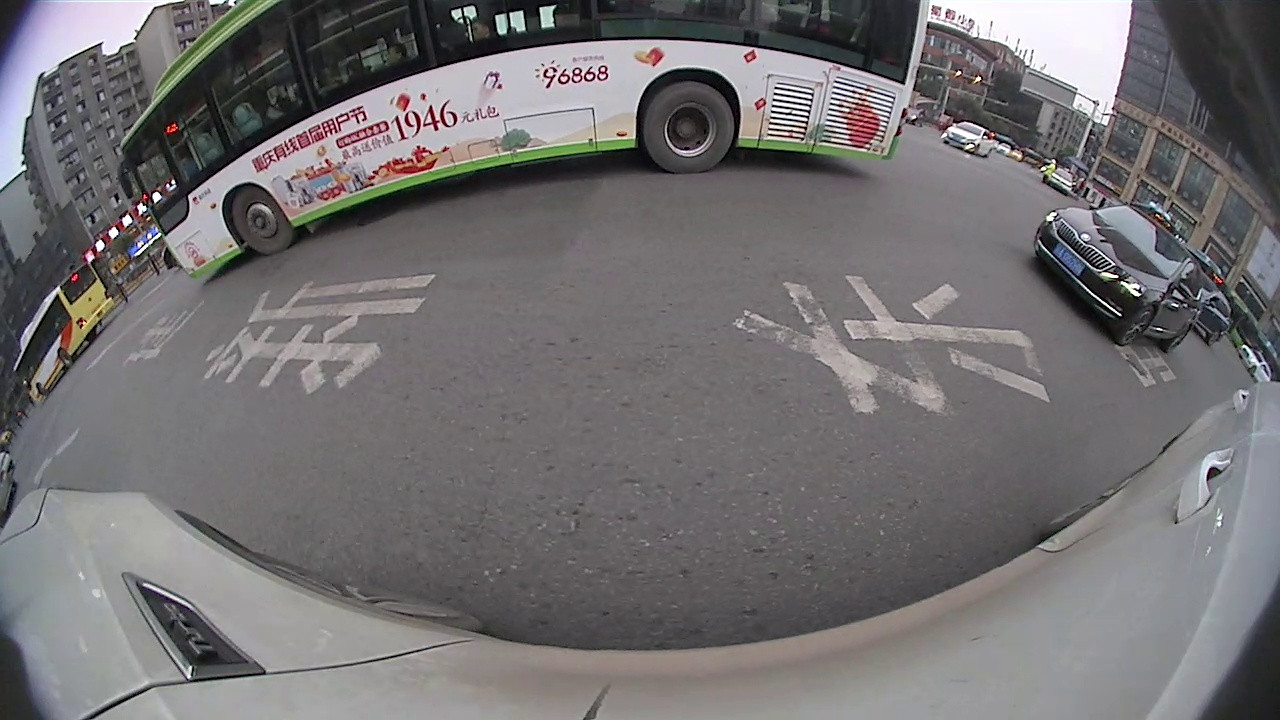bus: (116, 1, 934, 292), (8, 260, 116, 414)
car: (1028, 200, 1206, 352), (1193, 278, 1233, 348), (940, 118, 998, 160)
front: (223, 181, 293, 260), (1117, 304, 1158, 350)
rear: (639, 76, 738, 177)
